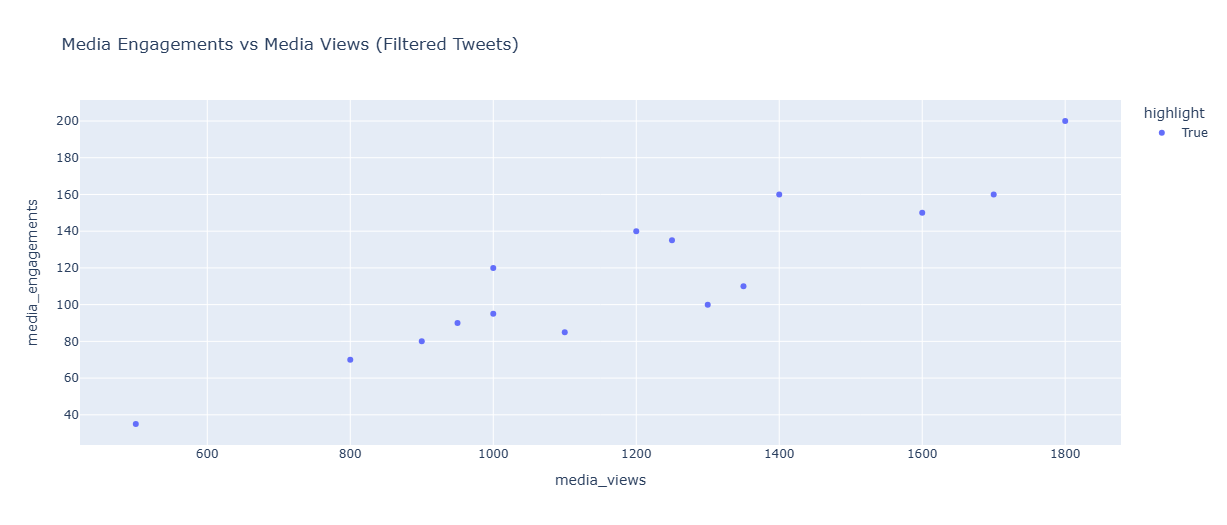

What the dashboard file says about the page in this screenshot:
{"tool":"powerbi","page":{"name":"Page 1","canvas":[1280,720],"ordinal":0},"visuals":[{"type":"image","box":[0,0,1280.2,720],"z":0}]}

Visuals, with their boxes on the page's 1280x720 design canvas (x1, y1, x2, y2). These are canvas units, not pixel positions in the 1227x525 screenshot, which may show the page scaled, cropped or inside an application window:
image: detection(0, 0, 1280, 720)
